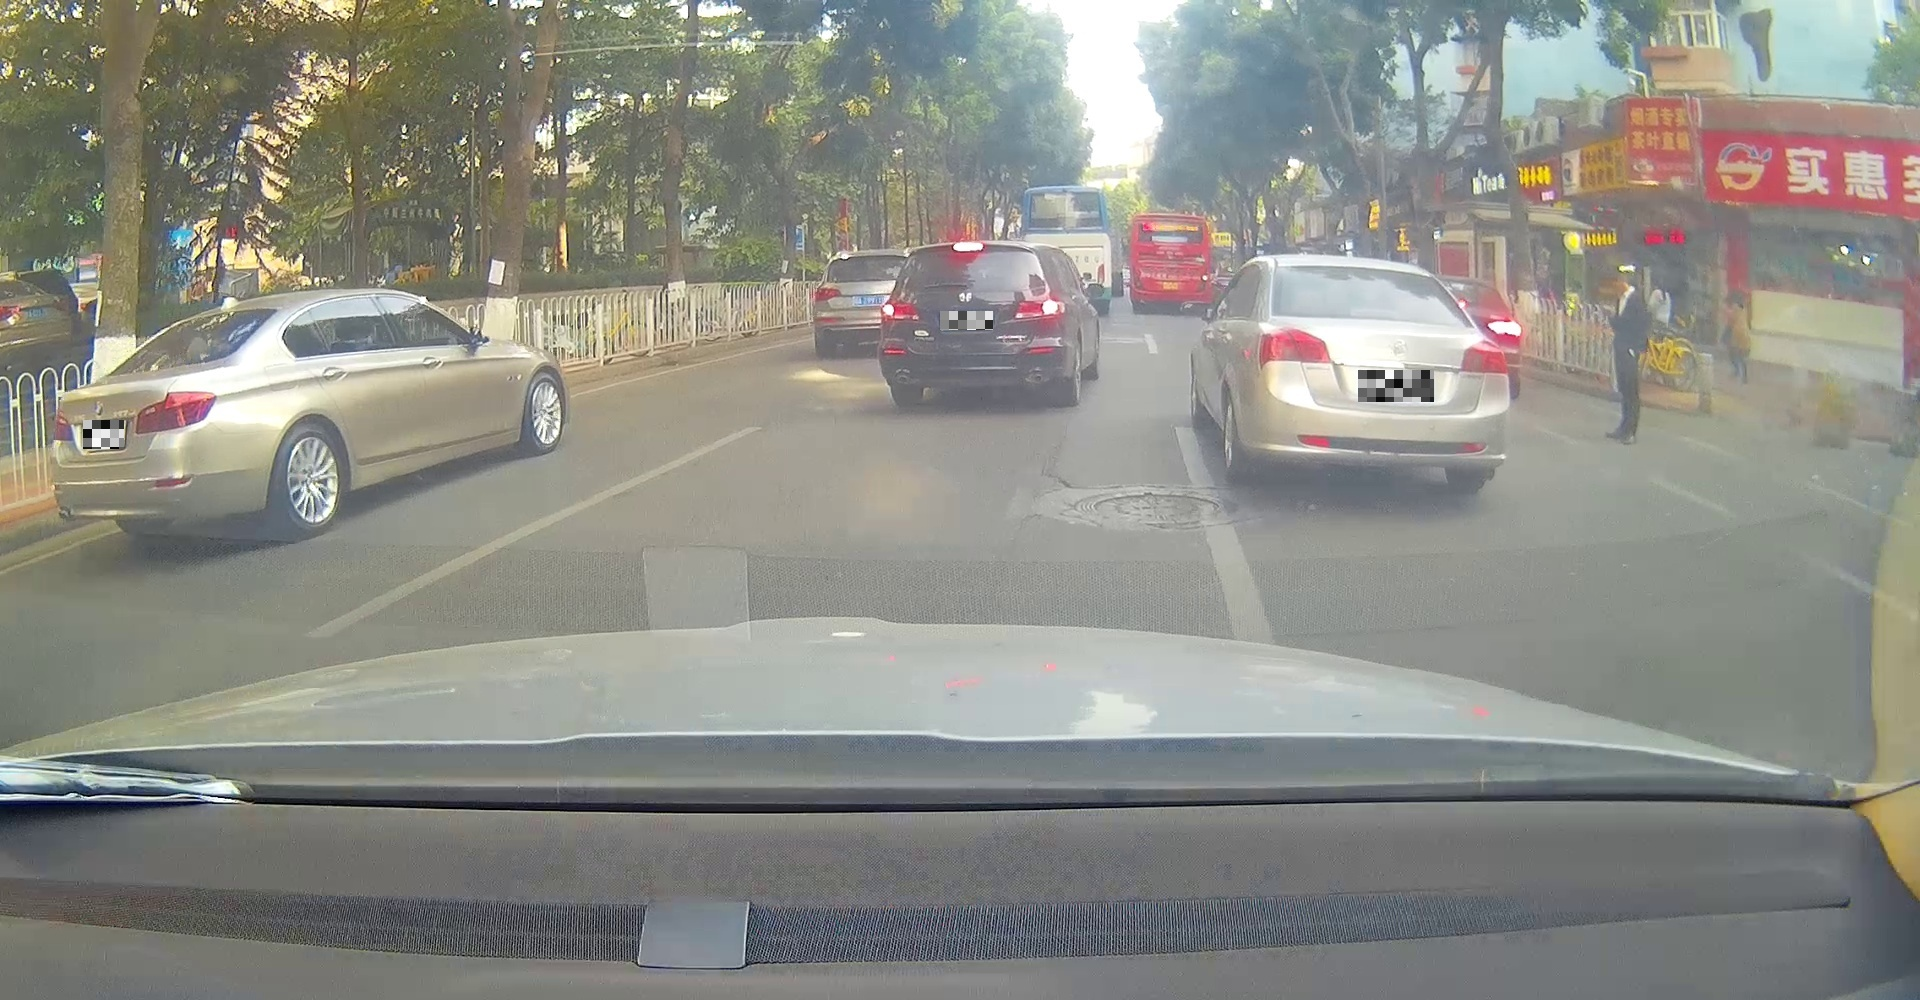L_light: (1258, 325, 1330, 371), (877, 298, 919, 321), (52, 409, 74, 442), (1131, 266, 1144, 291)
R_light: (136, 391, 217, 435), (1459, 340, 1507, 373), (1013, 294, 1065, 319), (1195, 268, 1208, 293)
T_light: (952, 241, 983, 253), (1352, 266, 1383, 275), (204, 313, 226, 324), (1161, 237, 1182, 244)
day-brake: (876, 240, 1067, 409)
day-no: (1255, 256, 1510, 492), (50, 306, 279, 533)
day-right: (1128, 213, 1211, 313)
plate_1: (83, 420, 124, 449)
plate_2: (940, 311, 993, 330)
plate_3: (1357, 371, 1434, 402)
